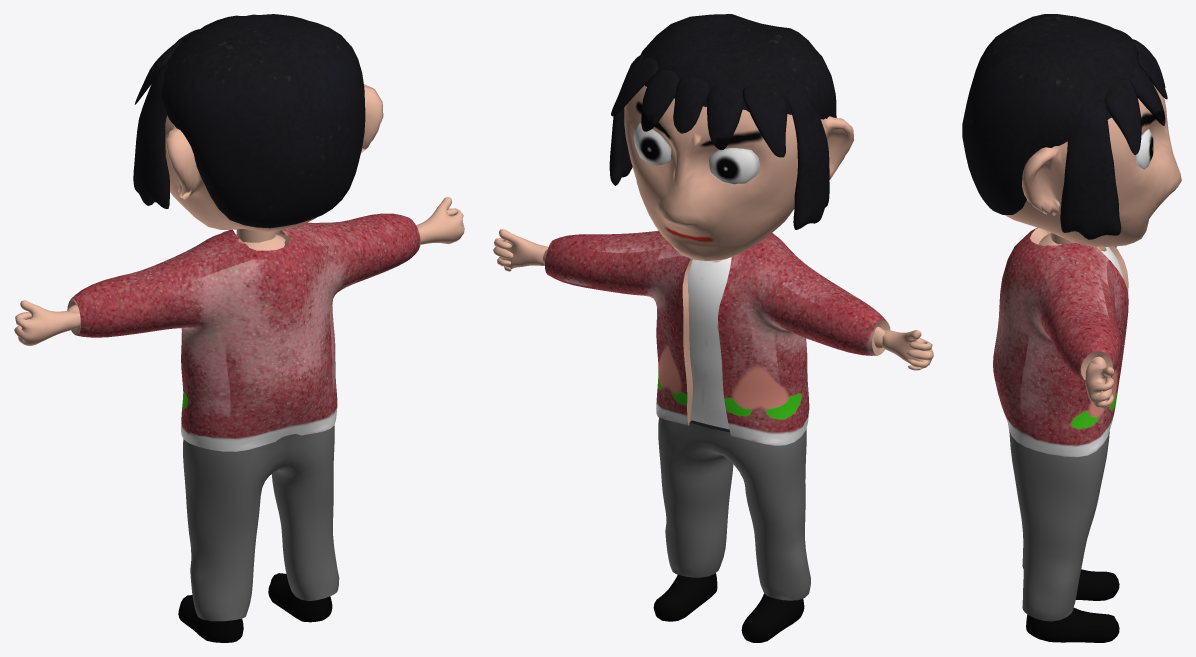
The model's file is 캐릭터 텍스쳐 작업-1 fbx.fbx.
3 renders of one model, left to right at view 1: azimuth 30°, elevation 25°; view 2: azimuth 150°, elevation 25°; view 3: azimuth 270°, elevation 25°, orthographic. The views are drawn at different scales.
Parts seen in each view (by area): view 1: Group28297, Object, Group49935, Object001, Group39935, Object008, Group22080; view 2: Group28297, Object001, Group49935, Object, Group34139, Group39935, Object008, Group22080, Object007, Object006, Object004, Object005 (+3 smaller); view 3: Group28297, Object, Group49935, Object001, Object002, Group39935, Object003, Group22080, Object004, Group41714, Object005.
Part boxes in pixels (x1,y1,x2,y2): Group28297: [71, 213, 420, 451]; Object: [161, 14, 365, 228]; Group49935: [183, 425, 339, 621]; Object001: [165, 84, 383, 231]; Group39935: [67, 229, 332, 642]; Object008: [133, 64, 169, 208]; Group22080: [14, 197, 464, 345]; Group28297: [545, 230, 886, 445]; Object001: [624, 85, 854, 260]; Group49935: [658, 417, 810, 600]; Object: [640, 14, 836, 119]; Group34139: [663, 257, 764, 437]; Group39935: [543, 249, 885, 642]; Object008: [786, 90, 829, 229]; Group22080: [493, 229, 933, 370]; Object007: [742, 85, 787, 157]; Object006: [706, 83, 744, 150]; Object004: [641, 70, 679, 131]; Object005: [673, 76, 708, 134]; Group28297: [993, 227, 1128, 457]; Object: [962, 14, 1140, 214]; Group49935: [1009, 430, 1109, 621]; Object001: [1005, 86, 1181, 247]; Object002: [1060, 99, 1121, 239]; Group39935: [1026, 232, 1119, 642]; Object003: [1104, 78, 1141, 154]; Group22080: [1085, 362, 1114, 408]; Object004: [1129, 66, 1165, 125]; Group41714: [1030, 228, 1113, 379]; Object005: [1136, 50, 1167, 99].
Size of the model in its own units: 118 by 150 by 51.3.
